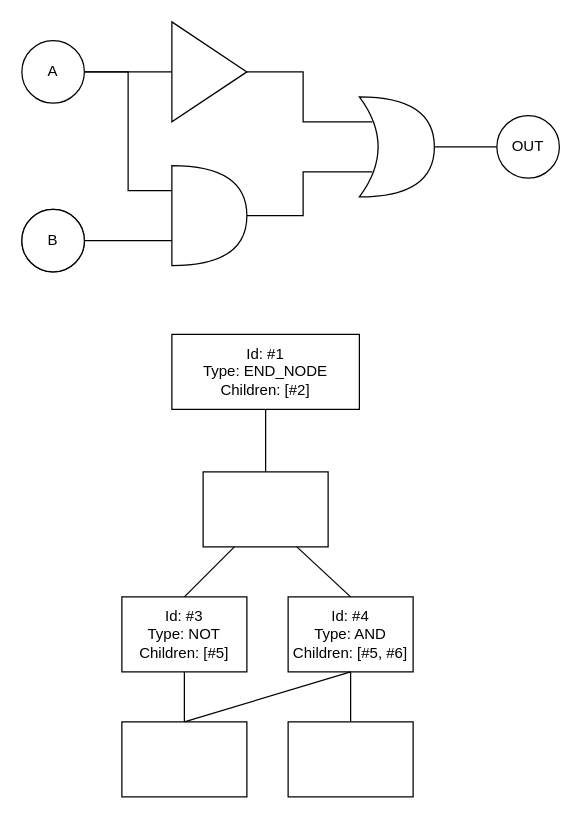
Image size: 581x819. Some labels were removed from this diagram. Here are the shapes that lost their labels. From the top down, the centre of each, then its label:
the point at 265,509: Id: #2 Type: OR Children: [#3, #4]
the point at 184,759: Id: #5 Type: START Label: A Children: []
the point at 350,759: Id: #6 Type: START Label: B Children: []
